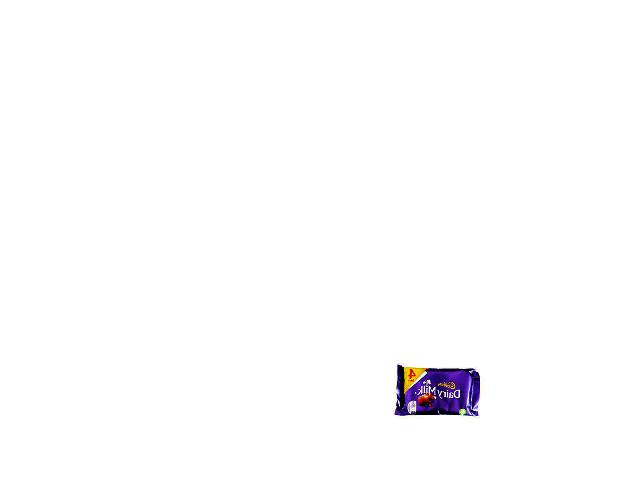chocolate: (385, 365, 482, 422)
